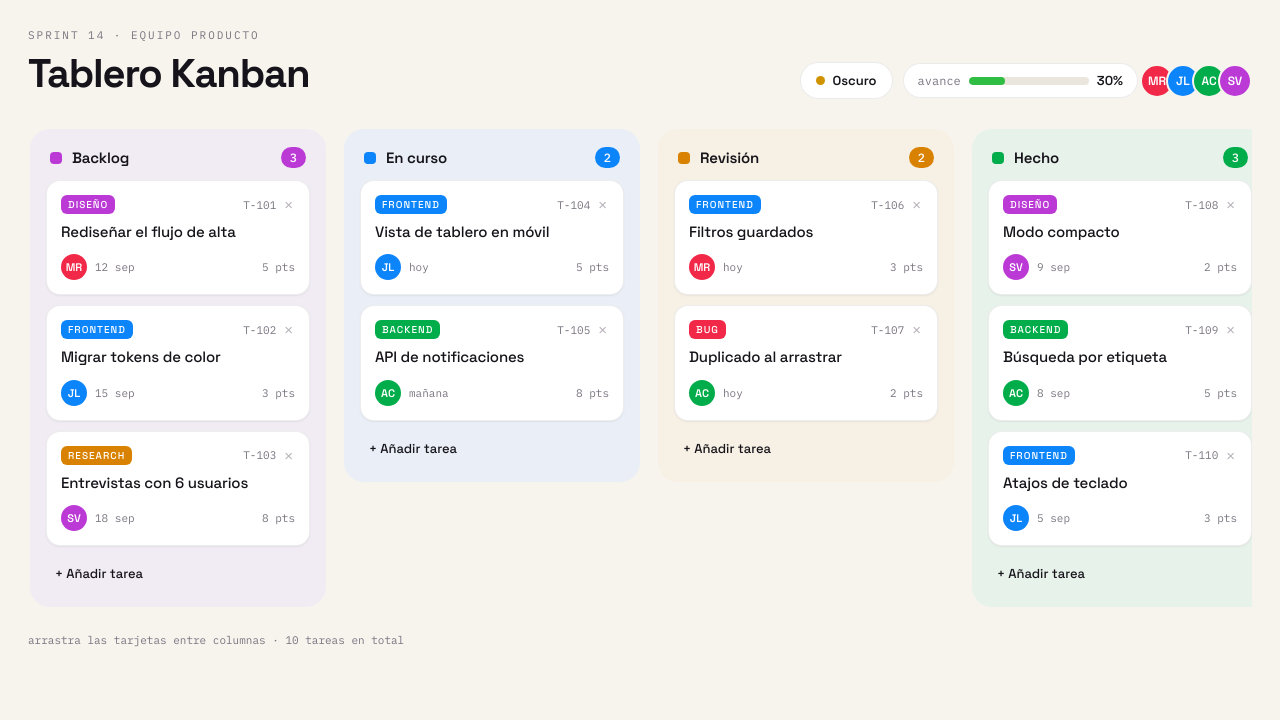
Test case: eliminar tarjeta › elimina la tarjeta de su columna y del total
Check: the text "arrastra las tarjetas entre columnas · 10 tareas en total" is shown, box [28,633,404,647]
Click the button named "Eliminar tarjeta": click(289, 204) [282,195,295,214]
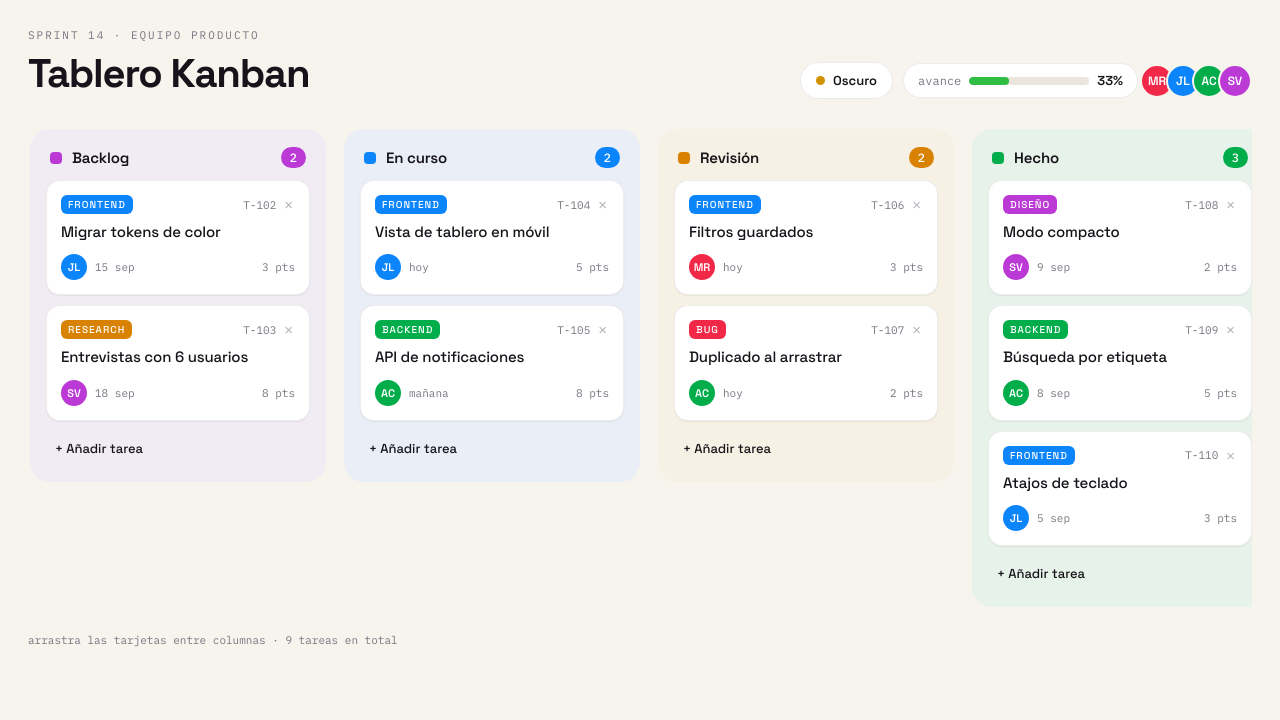
Check: the element with test id "card-T-101" is gone
Check: the text with test id "column-count-backlog" reads "2", box [290,150,297,165]
Check: the text "arrastra las tarjetas entre columnas · 9 tareas en total" is shown, box [28,633,398,647]
